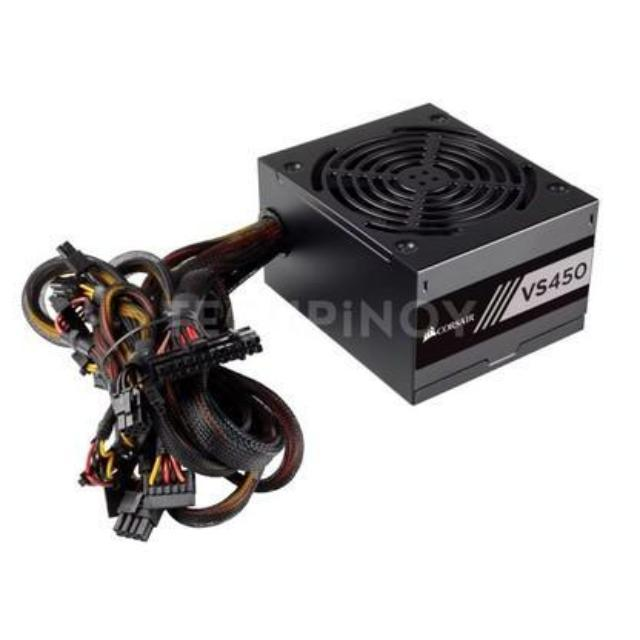PSU: (247, 88, 601, 416)
